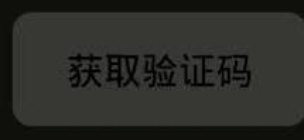Button: (1, 1, 303, 139)
